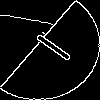I: (25, 25, 74, 64)
